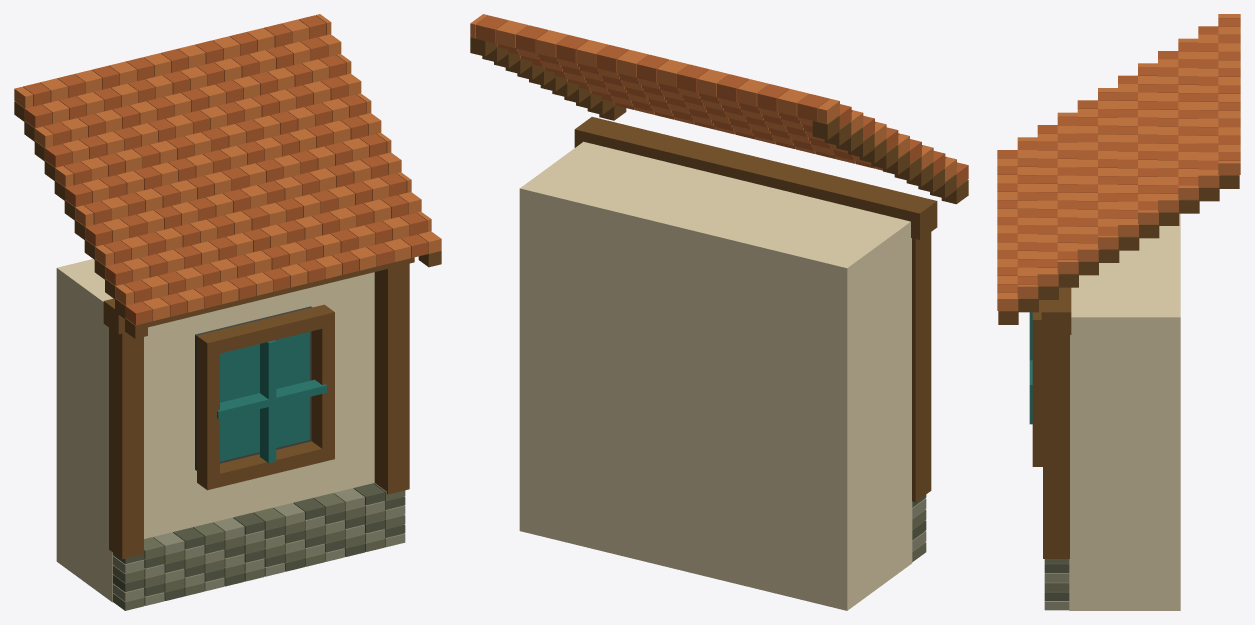
File: SM_DC_Cottage_Half.fbx
3 renders of one model, left to right at view 1: azimuth 30°, elevation 25°; view 2: azimuth 150°, elevation 25°; view 3: azimuth 270°, elevation 25°, orthographic. The views are drawn at different scales.
Visible parts, largest first — view 1: SM_DC_Cottage_Half; view 2: SM_DC_Cottage_Half; view 3: SM_DC_Cottage_Half.
Boxes of the visible parts, x1,y1,x2,y2 form: SM_DC_Cottage_Half: (14,14,441,610); SM_DC_Cottage_Half: (470,14,968,610); SM_DC_Cottage_Half: (997,14,1240,610).
Bounding box in the file's own units: 2.4 × 1.65 × 3.4.
